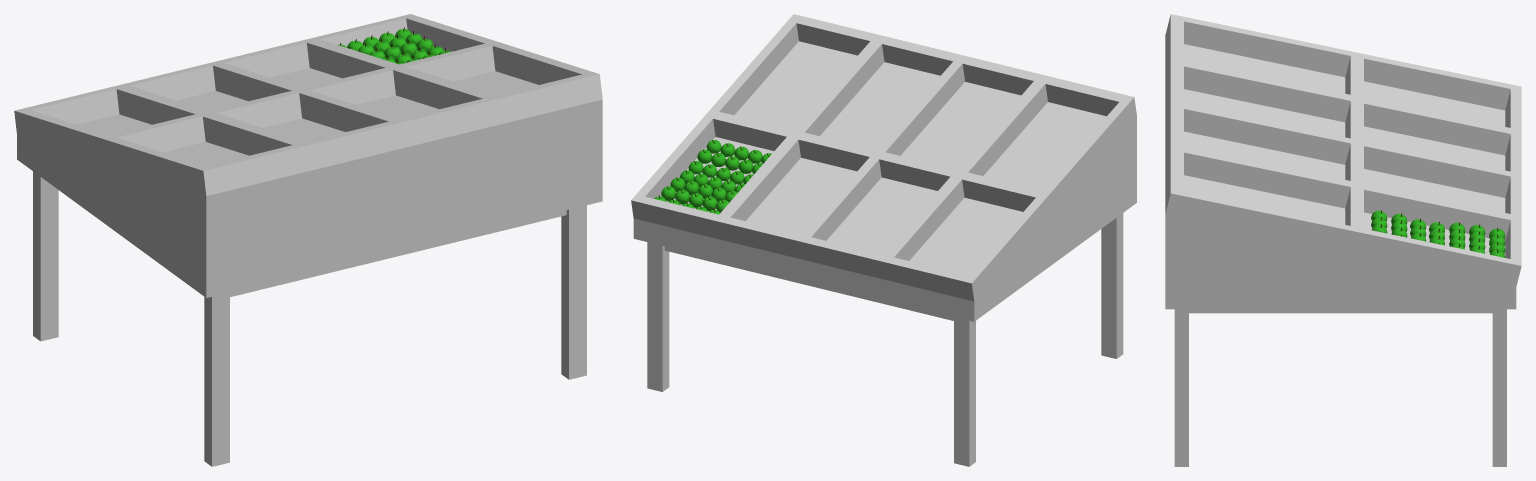
The model's file is Fruit stand.fbx.
The picture shows the model from 3 angles, left to right: view 1: azimuth 30°, elevation 25°; view 2: azimuth 150°, elevation 25°; view 3: azimuth 270°, elevation 25°; orthographic projection. The views are drawn at different scales.
Parts seen in each view (by area): view 1: Cube; view 2: Cube; view 3: Cube.
Part boxes in pixels (<box>): Cube: <box>14,14,602,466</box>; Cube: <box>631,14,1136,466</box>; Cube: <box>1165,14,1521,466</box>.
Bounding box in the file's own units: 527 × 382 × 443.
